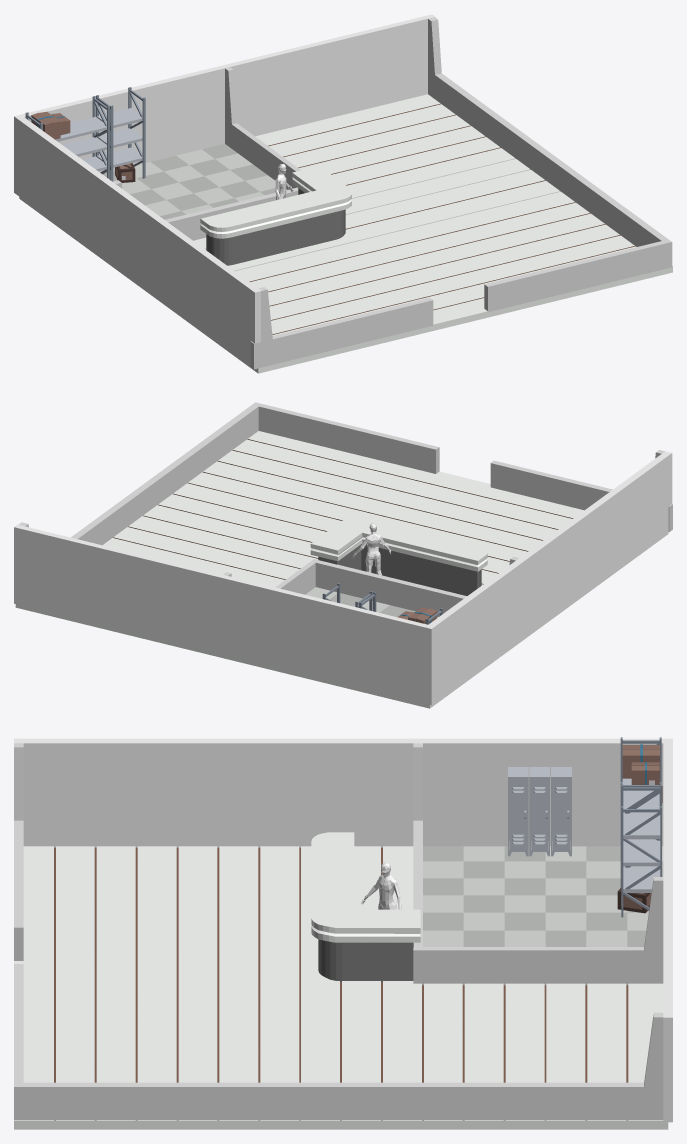
File: mainbuilding.glb
3 renders of one model, top to bottom at view 1: azimuth 30°, elevation 25°; view 2: azimuth 150°, elevation 25°; view 3: azimuth 270°, elevation 25°, orthographic. The views are drawn at different scales.
Visible parts, largest first — view 1: Outsidewall_back, Outsidewall_front, StorageRack_2_mesh.001; view 2: Outsidewall_back, Outsidewall_front, StorageRack_2_mesh.001; view 3: Outsidewall_back, Outsidewall_front, StorageRack_2_mesh.001.
Boxes of the visible parts, x1=… form: Outsidewall_back: x1=14, y1=14, x2=672, y2=373; Outsidewall_front: x1=112, y1=17, x2=672, y2=369; StorageRack_2_mesh.001: x1=25, y1=87, x2=145, y2=182; Outsidewall_back: x1=14, y1=431, x2=672, y2=708; Outsidewall_front: x1=16, y1=402, x2=672, y2=616; StorageRack_2_mesh.001: x1=322, y1=583, x2=442, y2=624; Outsidewall_back: x1=14, y1=738, x2=672, y2=1129; Outsidewall_front: x1=14, y1=743, x2=663, y2=1120; StorageRack_2_mesh.001: x1=508, y1=737, x2=662, y2=917.
Bounding box in the file's own units: 34.38 × 6.79 × 34.25.
2 materials, 2 textured.
